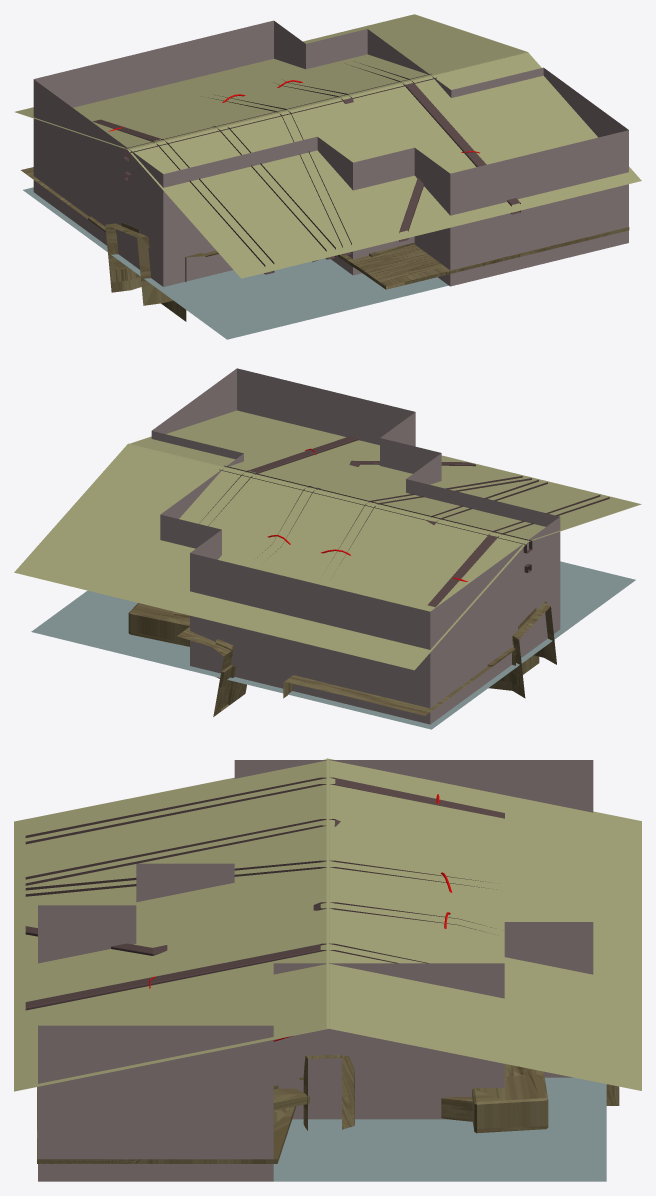
The model's file is Nivel 1finito.fbx.
3 views of the same model, one above another, from view 1: azimuth 30°, elevation 25°; view 2: azimuth 150°, elevation 25°; view 3: azimuth 270°, elevation 25° (orthographic). The views are drawn at different scales.
Visible parts, largest first — view 1: polySurface226; view 2: polySurface226; view 3: polySurface226.
Boxes of the visible parts, x1,y1,x2,y2 form: polySurface226: (15,14,641,339); polySurface226: (14,368,641,729); polySurface226: (14,758,641,1181).
Size of the model in its own units: 1321 by 474 by 1278.
